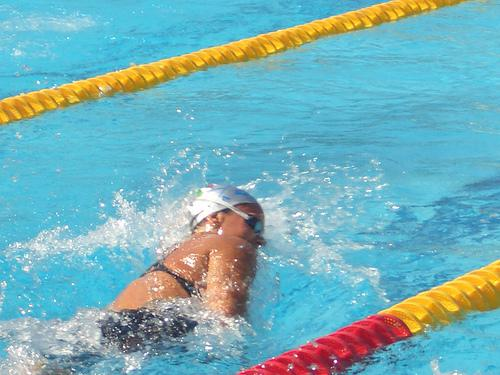swimmer: (99, 177, 268, 362)
